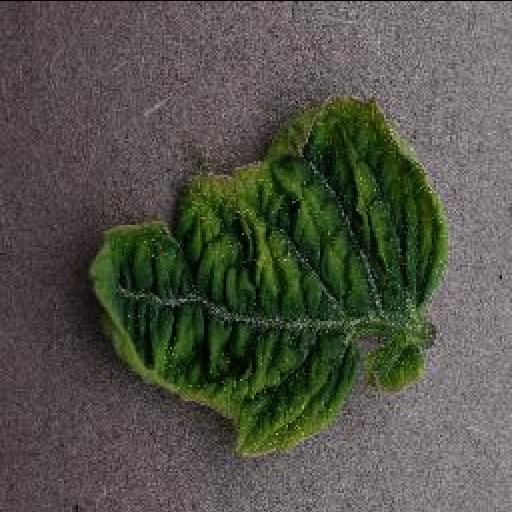disease_tomato: (85, 95, 451, 457)
